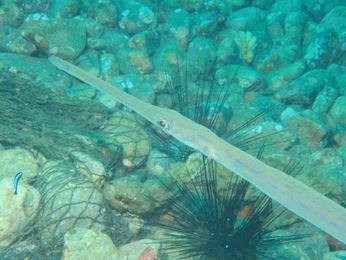Fistularia commersonii: (33, 47, 346, 237)
